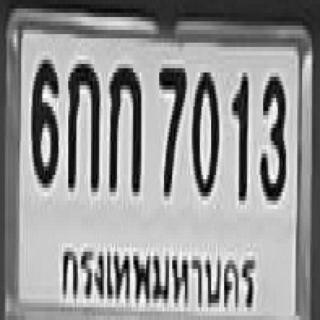A01: (107, 60, 140, 192), (66, 60, 99, 188)
N00: (190, 68, 218, 192)
N01: (231, 68, 247, 196)
N03: (258, 73, 284, 196)
N06: (31, 55, 57, 184)
N07: (158, 64, 185, 192)
P04: (56, 233, 262, 320)
